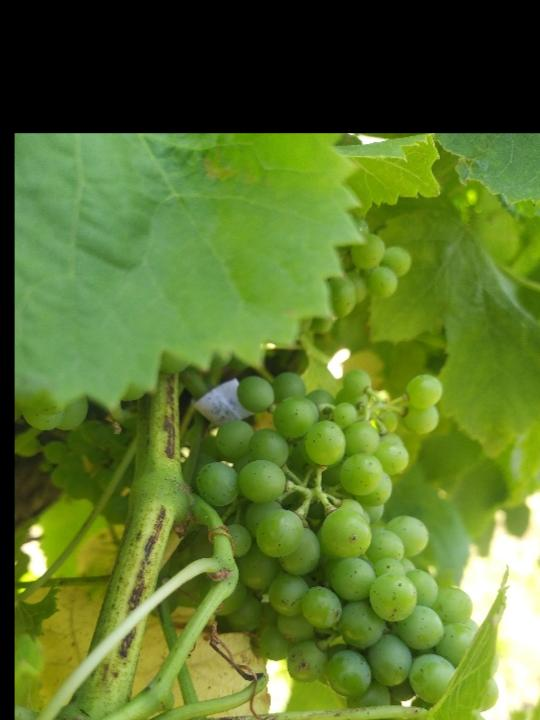grape: (168, 371, 499, 720)
